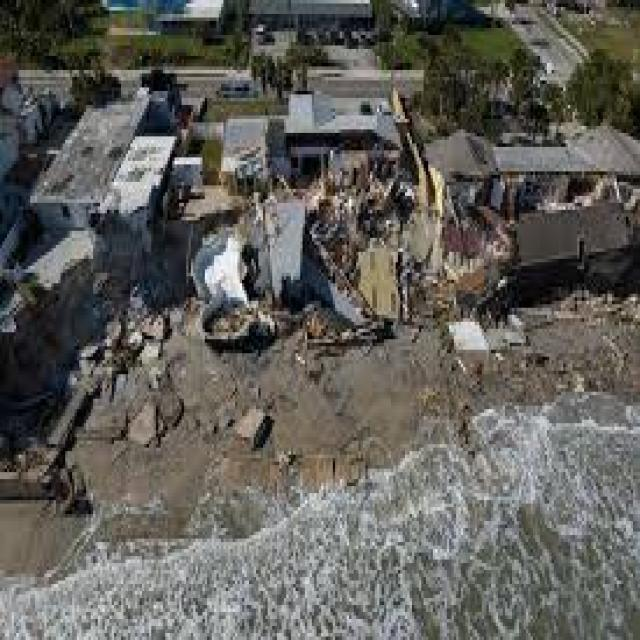Hurricane: (109, 129, 576, 541)
